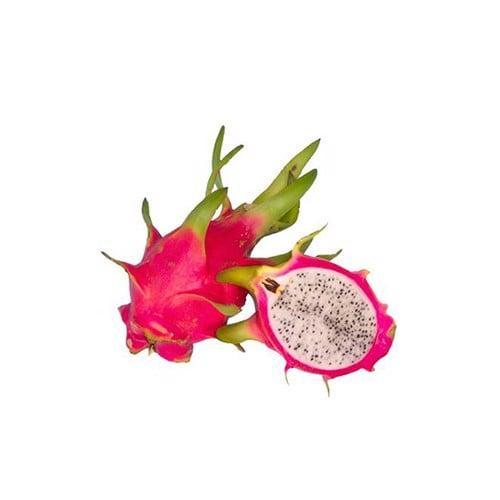dragon-fruit: (256, 257, 386, 376), (128, 219, 249, 344)
